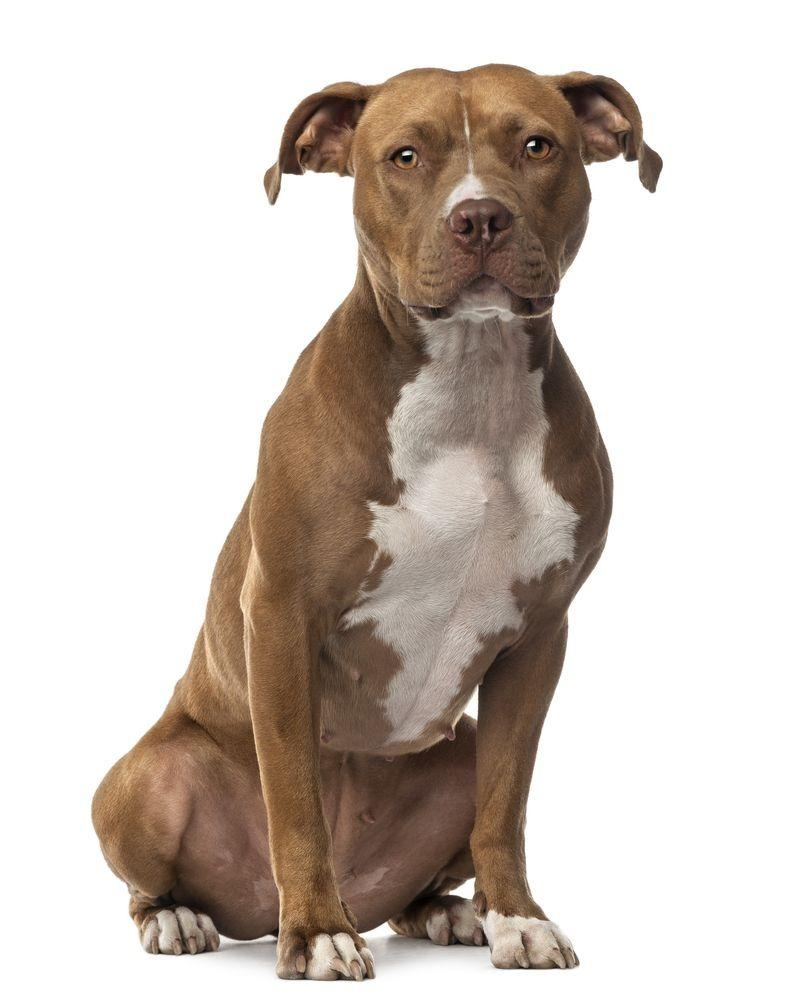adult_dog: (92, 59, 670, 984)
